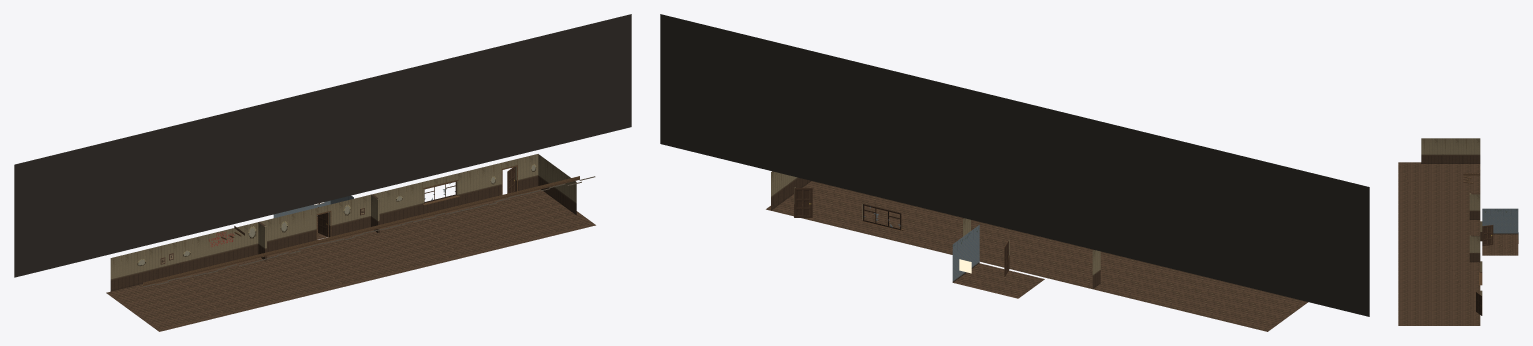
The model's file is shell.gltf.
The picture shows the model from 3 angles, left to right: view 1: azimuth 30°, elevation 25°; view 2: azimuth 150°, elevation 25°; view 3: azimuth 270°, elevation 25°; orthographic projection. The views are drawn at different scales.
Parts seen in each view (by area): view 1: shell; view 2: shell; view 3: shell.
Boxes of the visible parts, x1,y1,x2,y2 form: shell: (14, 14, 631, 331); shell: (660, 14, 1369, 331); shell: (1398, 138, 1518, 325).
Bounding box in the file's own units: 52 × 12 × 11.45.
13 materials, 11 textured.
